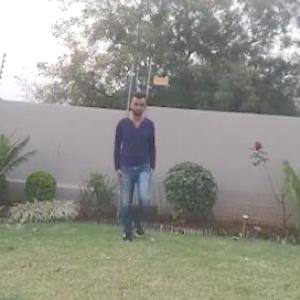follow: (112, 89, 164, 250)
